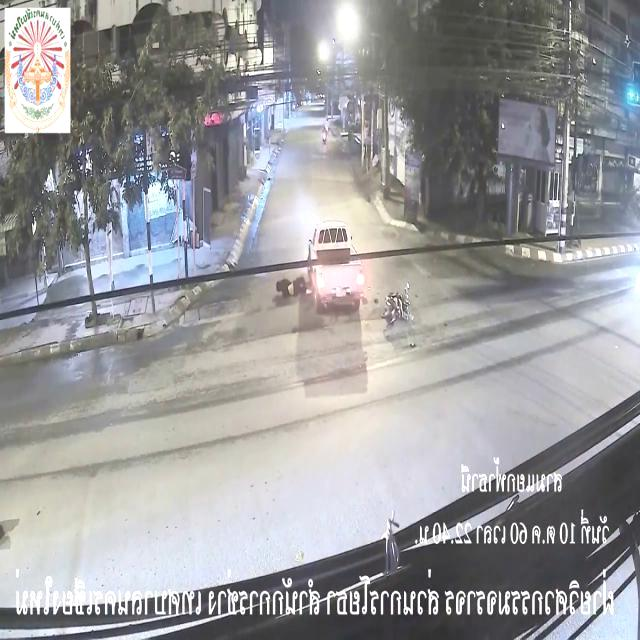accident: (270, 222, 420, 334)
